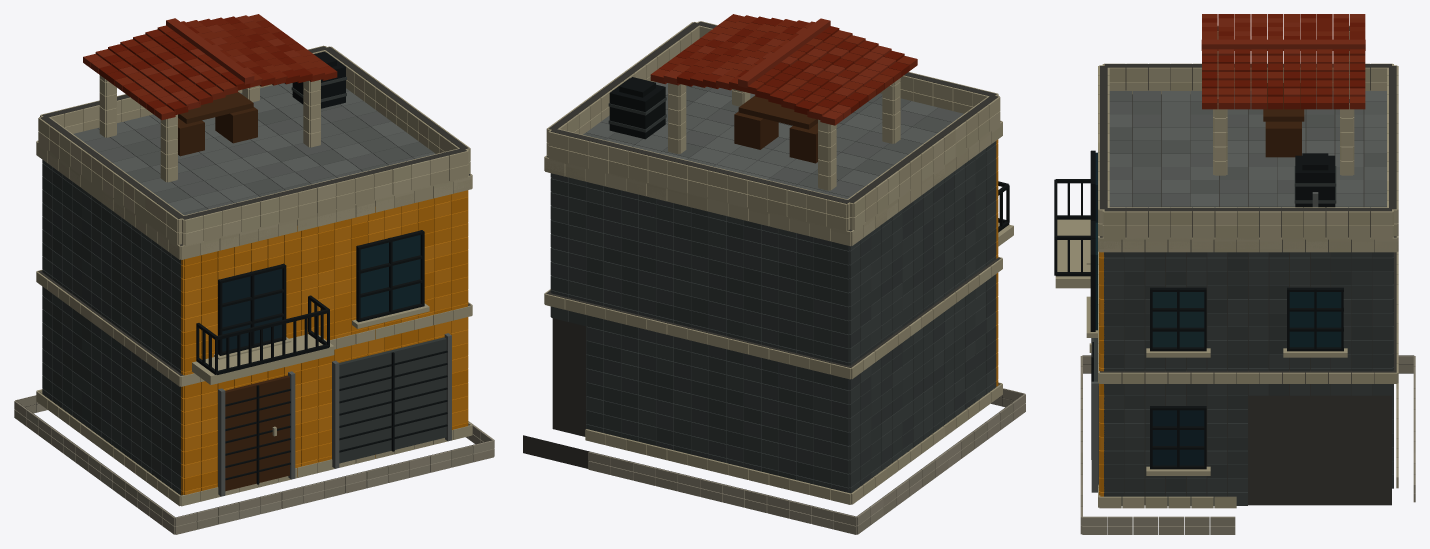
Rendered from SM_StreetFrontage_057.fbx.
3 renders of one model, left to right at view 1: azimuth 30°, elevation 25°; view 2: azimuth 150°, elevation 25°; view 3: azimuth 270°, elevation 25°, orthographic. The views are drawn at different scales.
Parts seen in each view (by area): view 1: SM_StreetFrontage_057; view 2: SM_StreetFrontage_057; view 3: SM_StreetFrontage_057.
Boxes of the visible parts, x1=… form: SM_StreetFrontage_057: x1=14, y1=14, x2=494, y2=534; SM_StreetFrontage_057: x1=523, y1=14, x2=1025, y2=534; SM_StreetFrontage_057: x1=1054, y1=14, x2=1415, y2=534.
Size of the model in its own units: 8 by 7.53 by 9.15.
